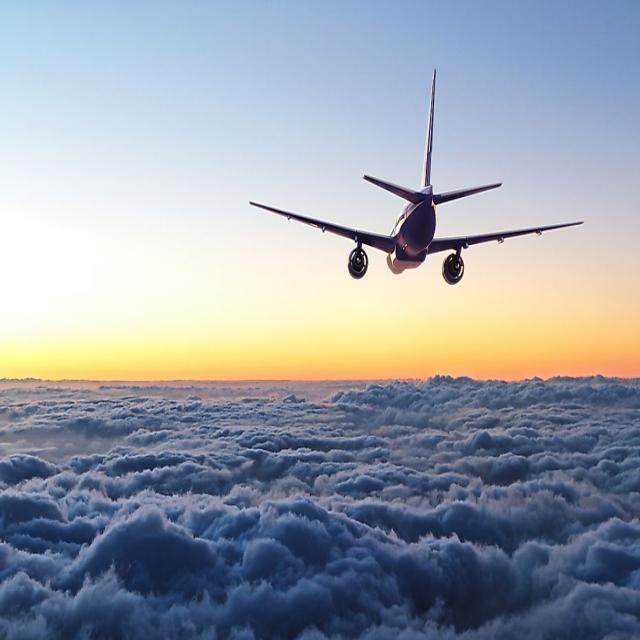plane: (255, 72, 582, 286)
